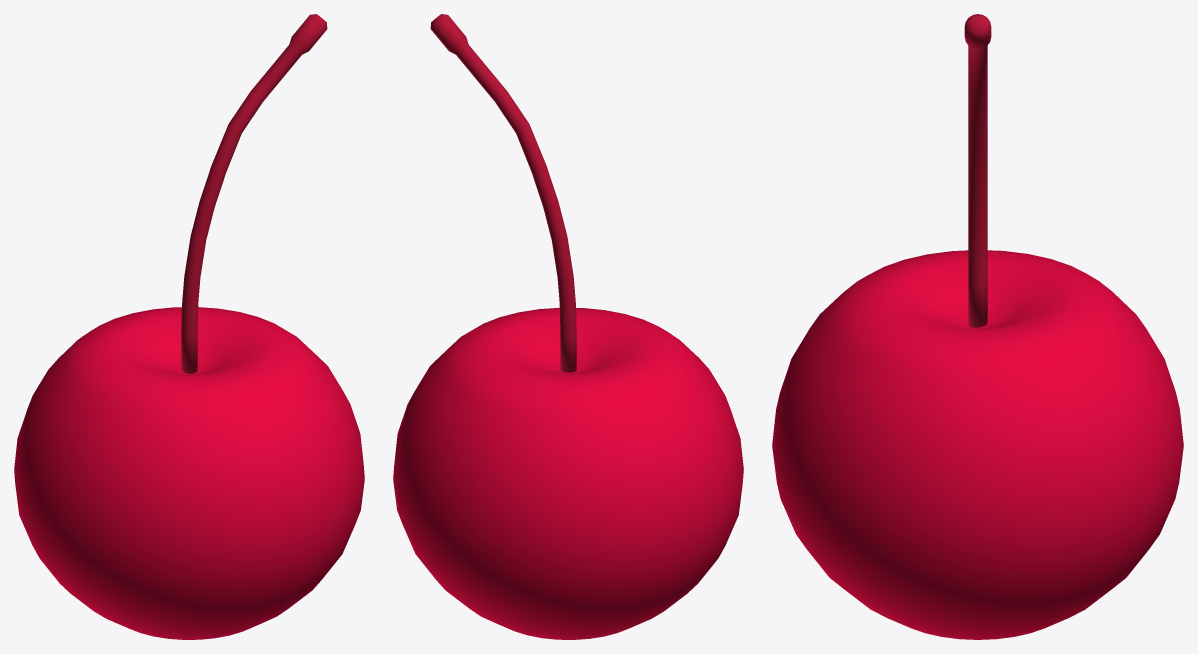
The model's file is Cherry.fbx.
3 renders of one model, left to right at view 1: azimuth 30°, elevation 25°; view 2: azimuth 150°, elevation 25°; view 3: azimuth 270°, elevation 25°, orthographic. The views are drawn at different scales.
Visible parts, largest first — view 1: Cherry, Stem; view 2: Cherry, Stem; view 3: Cherry, Stem.
Part boxes in pixels (x1,y1,x2,y2): Cherry: [14, 307, 364, 639]; Stem: [181, 14, 327, 373]; Cherry: [393, 307, 743, 639]; Stem: [430, 14, 576, 372]; Cherry: [772, 250, 1183, 639]; Stem: [964, 14, 991, 327].
Bounding box in the file's own units: 200 × 364 × 200.
